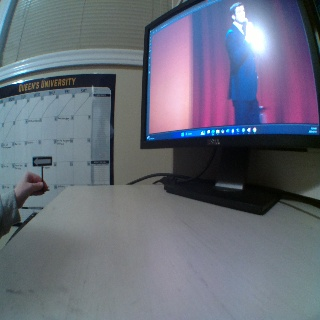sign_oneway_left: (32, 156, 53, 166)
